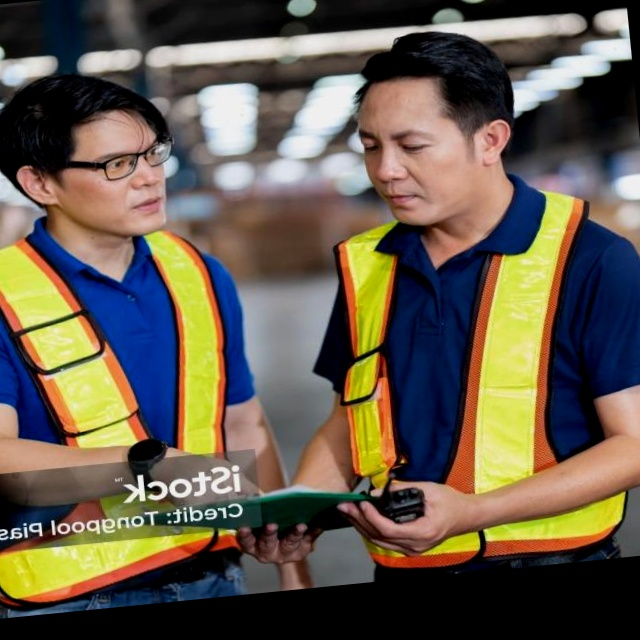Con_Chaleco: (315, 187, 632, 572)
Sin_Casco_Mascarrilla: (345, 22, 529, 235), (0, 65, 187, 252)
